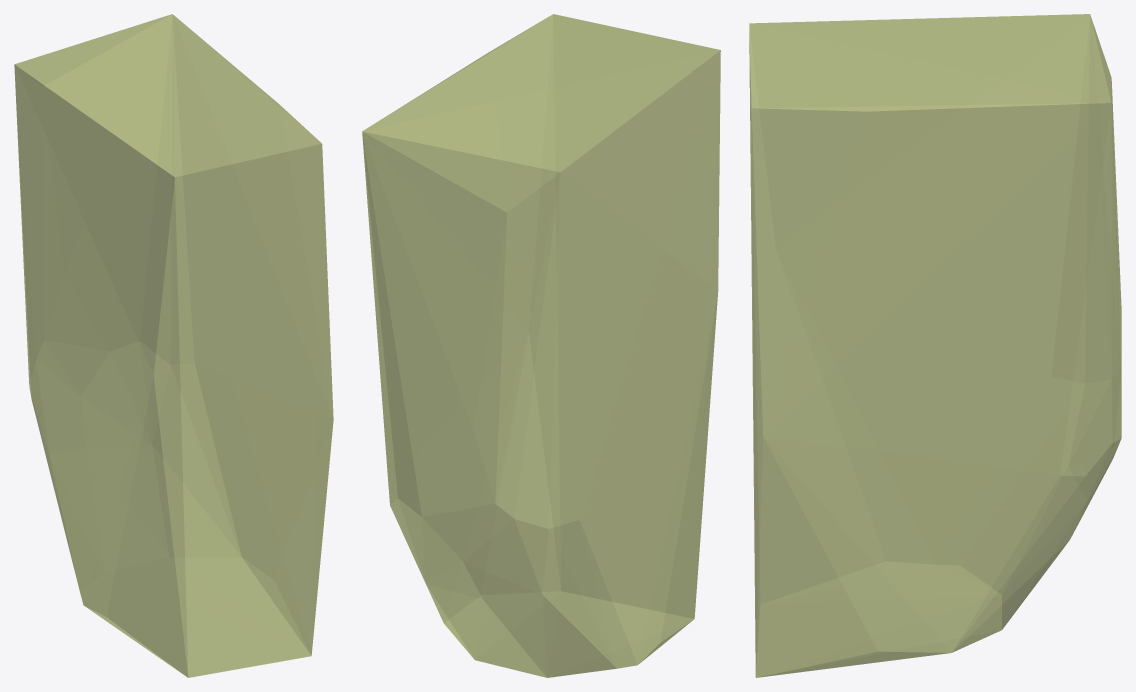
The picture shows the model from 3 angles, left to right: view 1: azimuth 30°, elevation 25°; view 2: azimuth 150°, elevation 25°; view 3: azimuth 270°, elevation 25°; orthographic projection. The views are drawn at different scales.
Visible parts, largest first — view 1: Shape_IndexedFaceSet.002_Shape_IndexedFaceSet.20379; view 2: Shape_IndexedFaceSet.002_Shape_IndexedFaceSet.20379; view 3: Shape_IndexedFaceSet.002_Shape_IndexedFaceSet.20379.
Boxes of the visible parts, x1=… form: Shape_IndexedFaceSet.002_Shape_IndexedFaceSet.20379: x1=14, y1=14, x2=333, y2=677; Shape_IndexedFaceSet.002_Shape_IndexedFaceSet.20379: x1=362, y1=14, x2=720, y2=677; Shape_IndexedFaceSet.002_Shape_IndexedFaceSet.20379: x1=749, y1=14, x2=1121, y2=677.
Size of the model in its own units: 0.1921 by 0.5491 by 0.3167.
